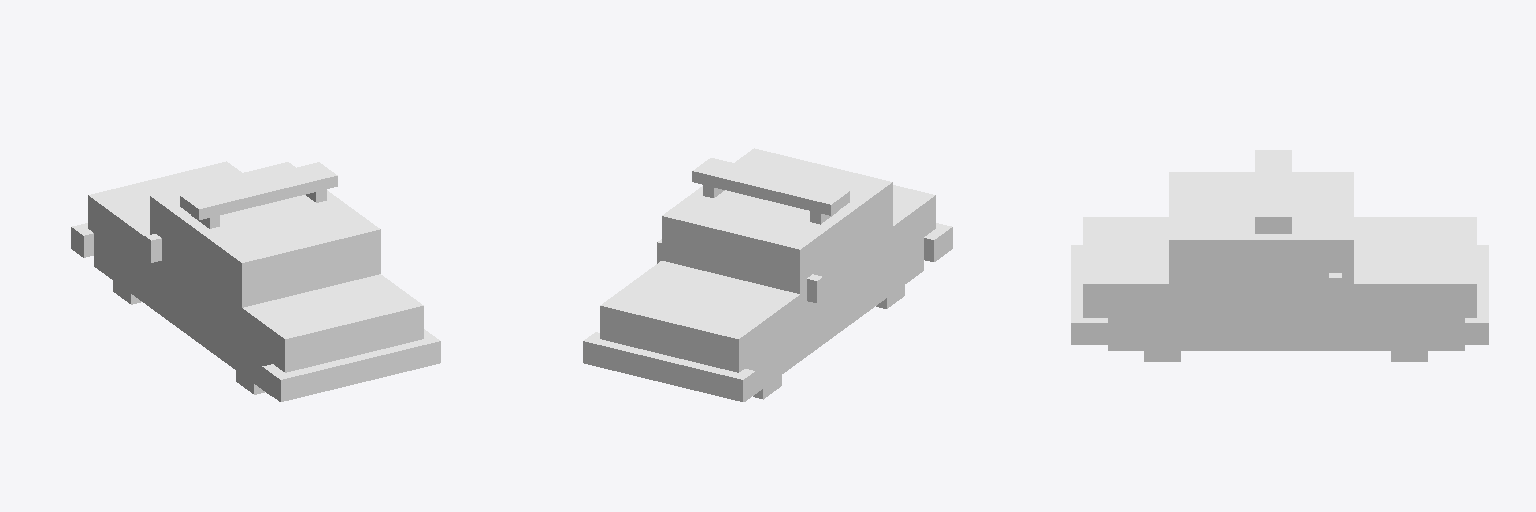
The model's file is car-23.obj.
3 views of the same model, side by side, from view 1: azimuth 30°, elevation 25°; view 2: azimuth 150°, elevation 25°; view 3: azimuth 270°, elevation 25° (orthographic).
Visible parts, largest first — view 1: object 1; view 2: object 1; view 3: object 1.
Part boxes in pixels (bbox=[...]): object 1: bbox=[71, 161, 440, 401]; object 1: bbox=[583, 148, 952, 401]; object 1: bbox=[1071, 150, 1488, 361].
Bounding box in the file's own units: 1.5 × 1.3 × 3.4.